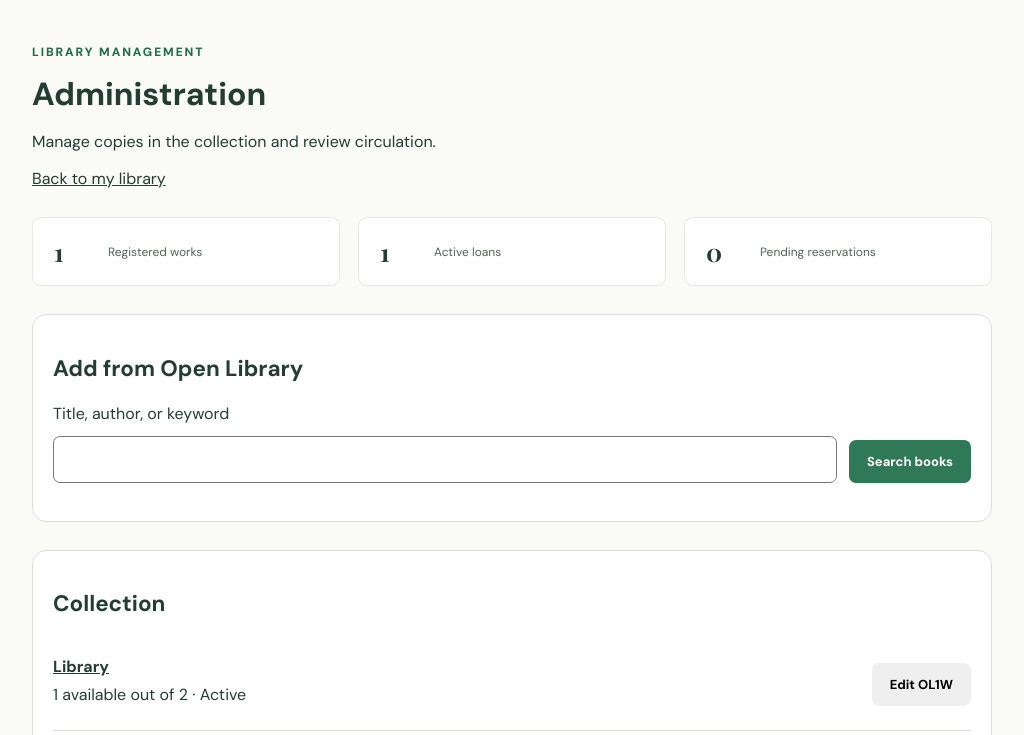
Test: searching, adding copies, and saving refreshes the collection
In the field labelled "Title, author, or keyword": {"x": 445, "y": 459} [53,436,837,483], type "New work"
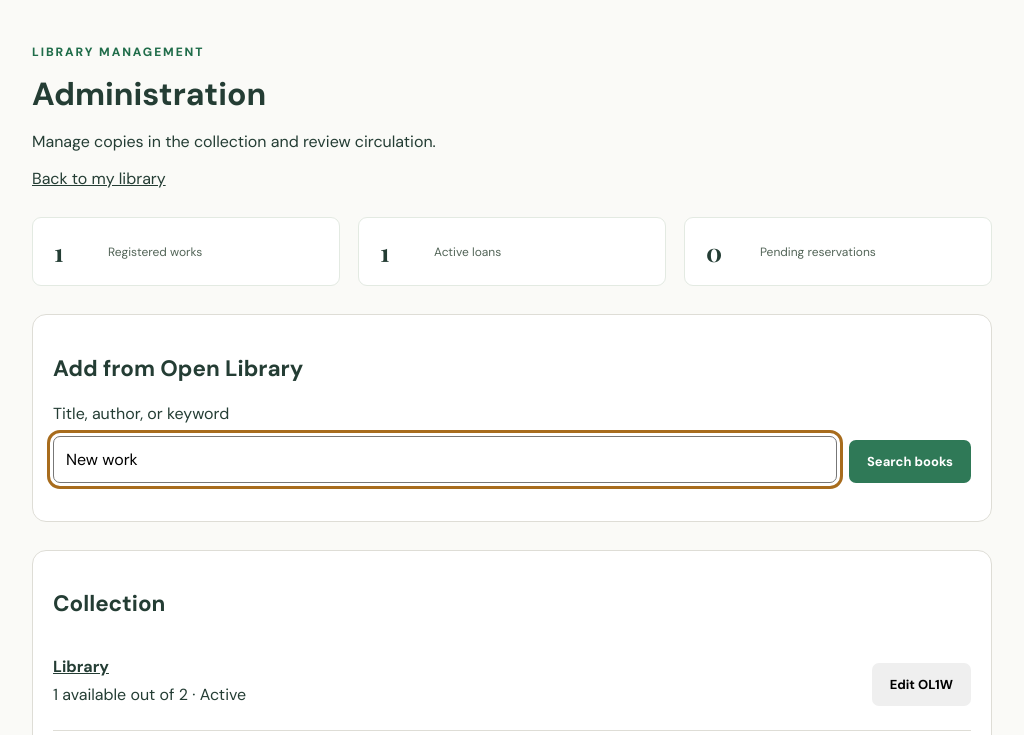
Click the button "Search books": {"x": 910, "y": 461} [849,440,971,483]
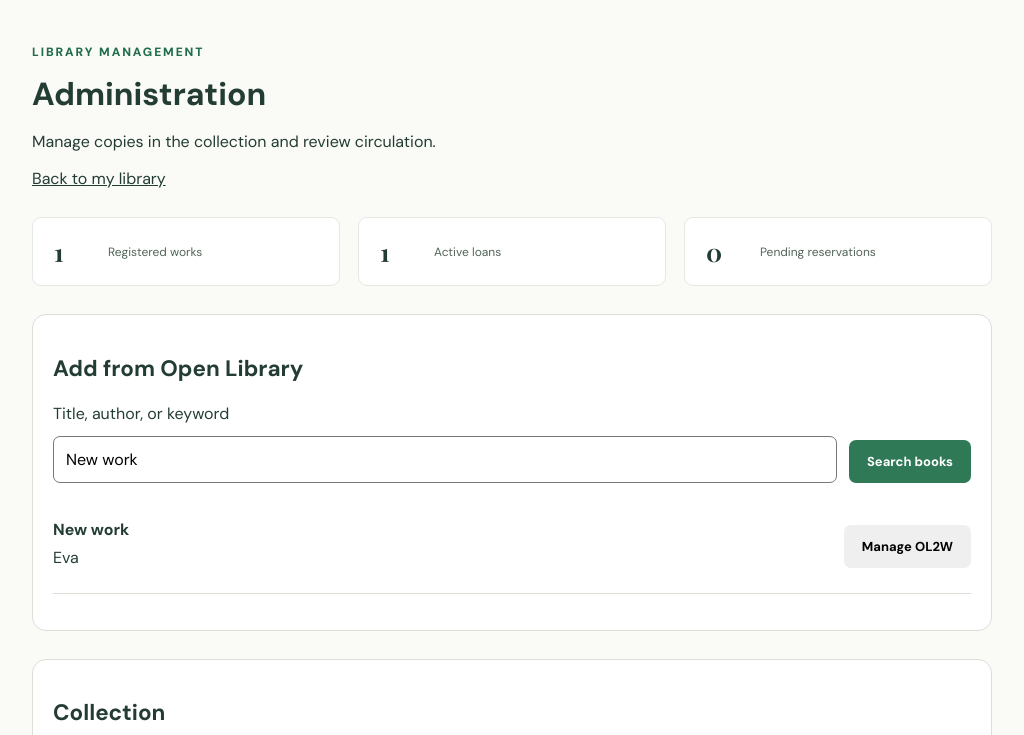
Click the button "Manage OL2W": {"x": 907, "y": 547} [844,525,971,568]
(page scrolled)
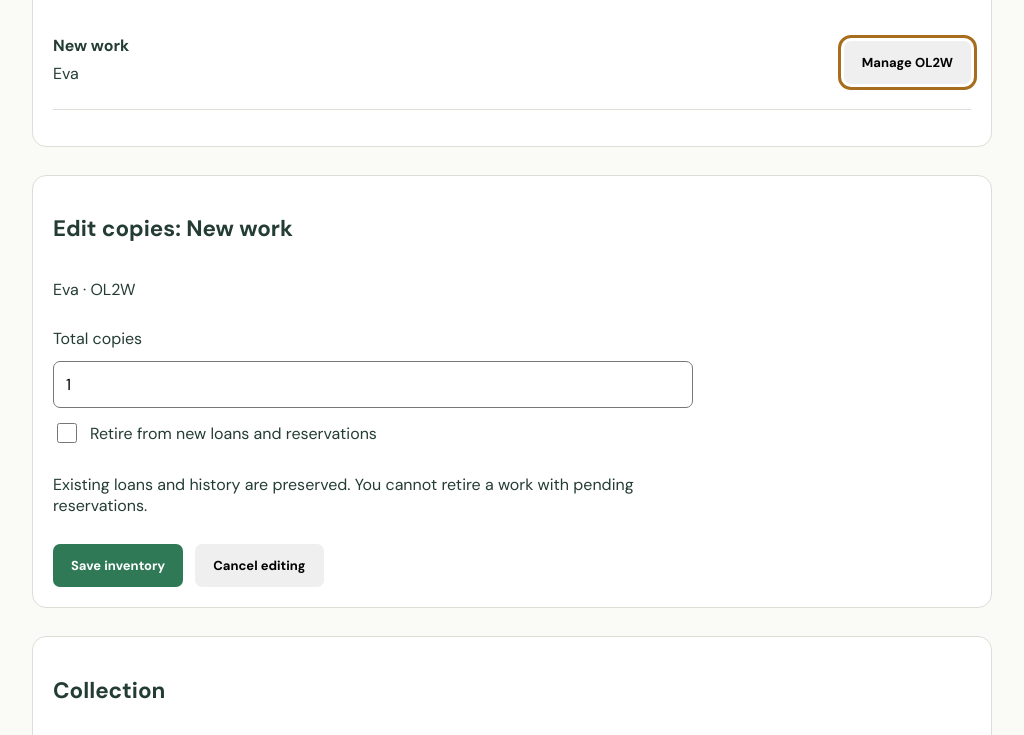
Replace the text in the number field labelled "Total copies" with "3": {"x": 373, "y": 385} [53,361,693,408]
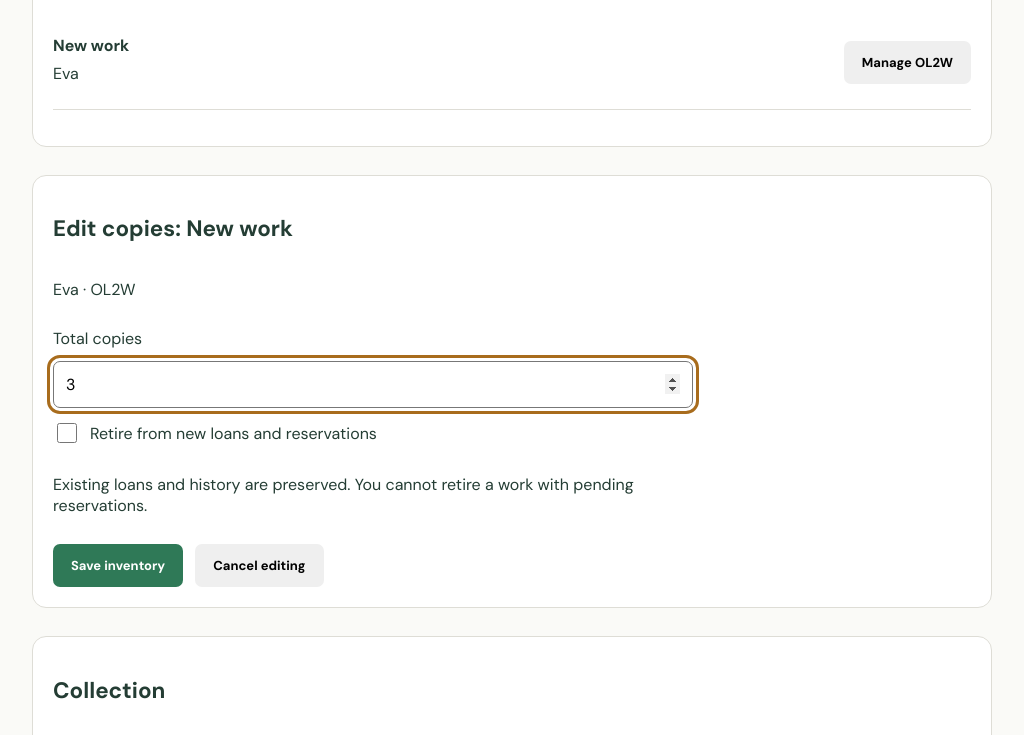
Click the button "Save inventory": {"x": 118, "y": 566} [53,544,183,587]
(page scrolled)
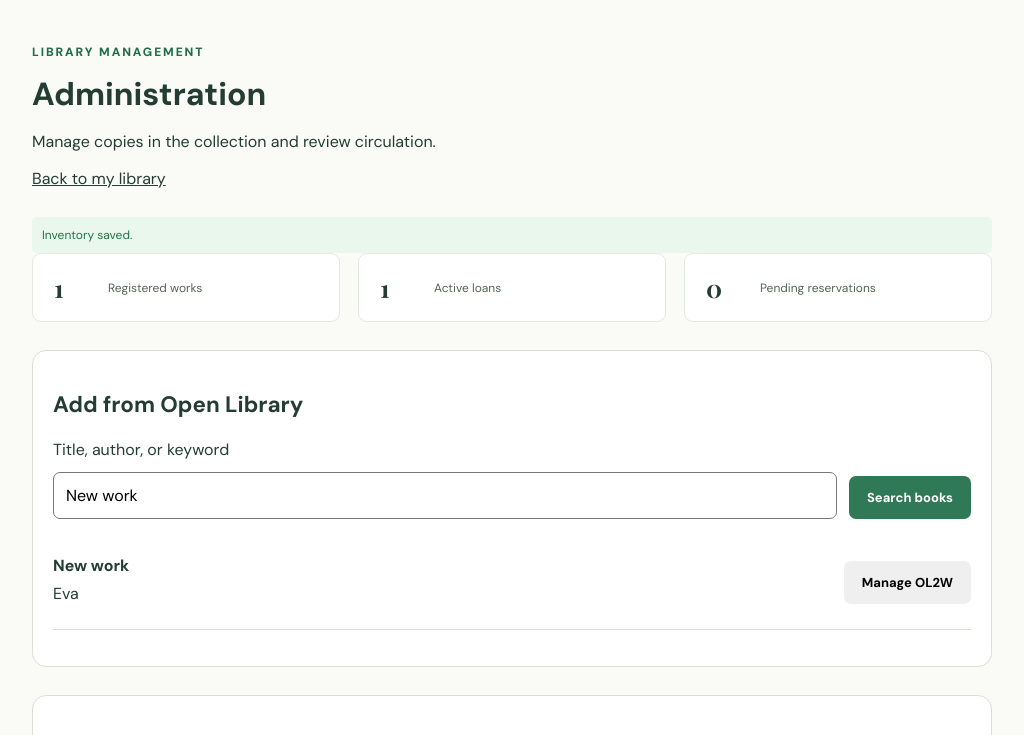
Check: the message shows "Inventory saved", box [42,227,132,243]
